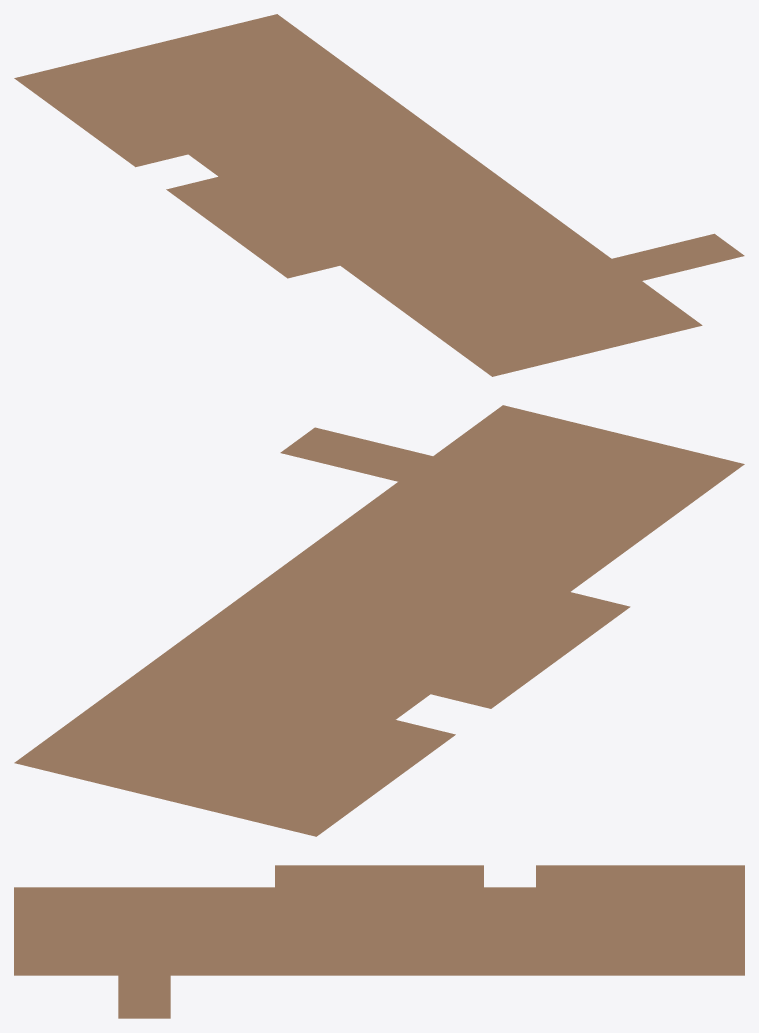
File: N02_Piso_SalaComedor.fbx
3 views of the same model, one above another, from view 1: azimuth 30°, elevation 25°; view 2: azimuth 150°, elevation 25°; view 3: azimuth 270°, elevation 25° (orthographic). The views are drawn at different scales.
Parts seen in each view (by area): view 1: N02_Piso_SalaComedor; view 2: N02_Piso_SalaComedor; view 3: N02_Piso_SalaComedor.
Part boxes in pixels (<box>): N02_Piso_SalaComedor: <box>14,14,744,376</box>; N02_Piso_SalaComedor: <box>14,405,744,836</box>; N02_Piso_SalaComedor: <box>14,865,744,1018</box>.
Size of the model in its own units: 695 by 0.000228 by 1400.
Materials: 1 (1 with a texture image).
